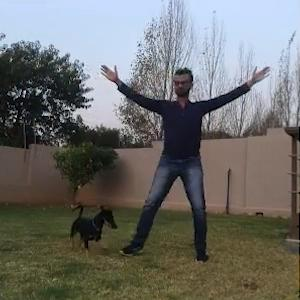takeoff: (106, 58, 269, 257)
